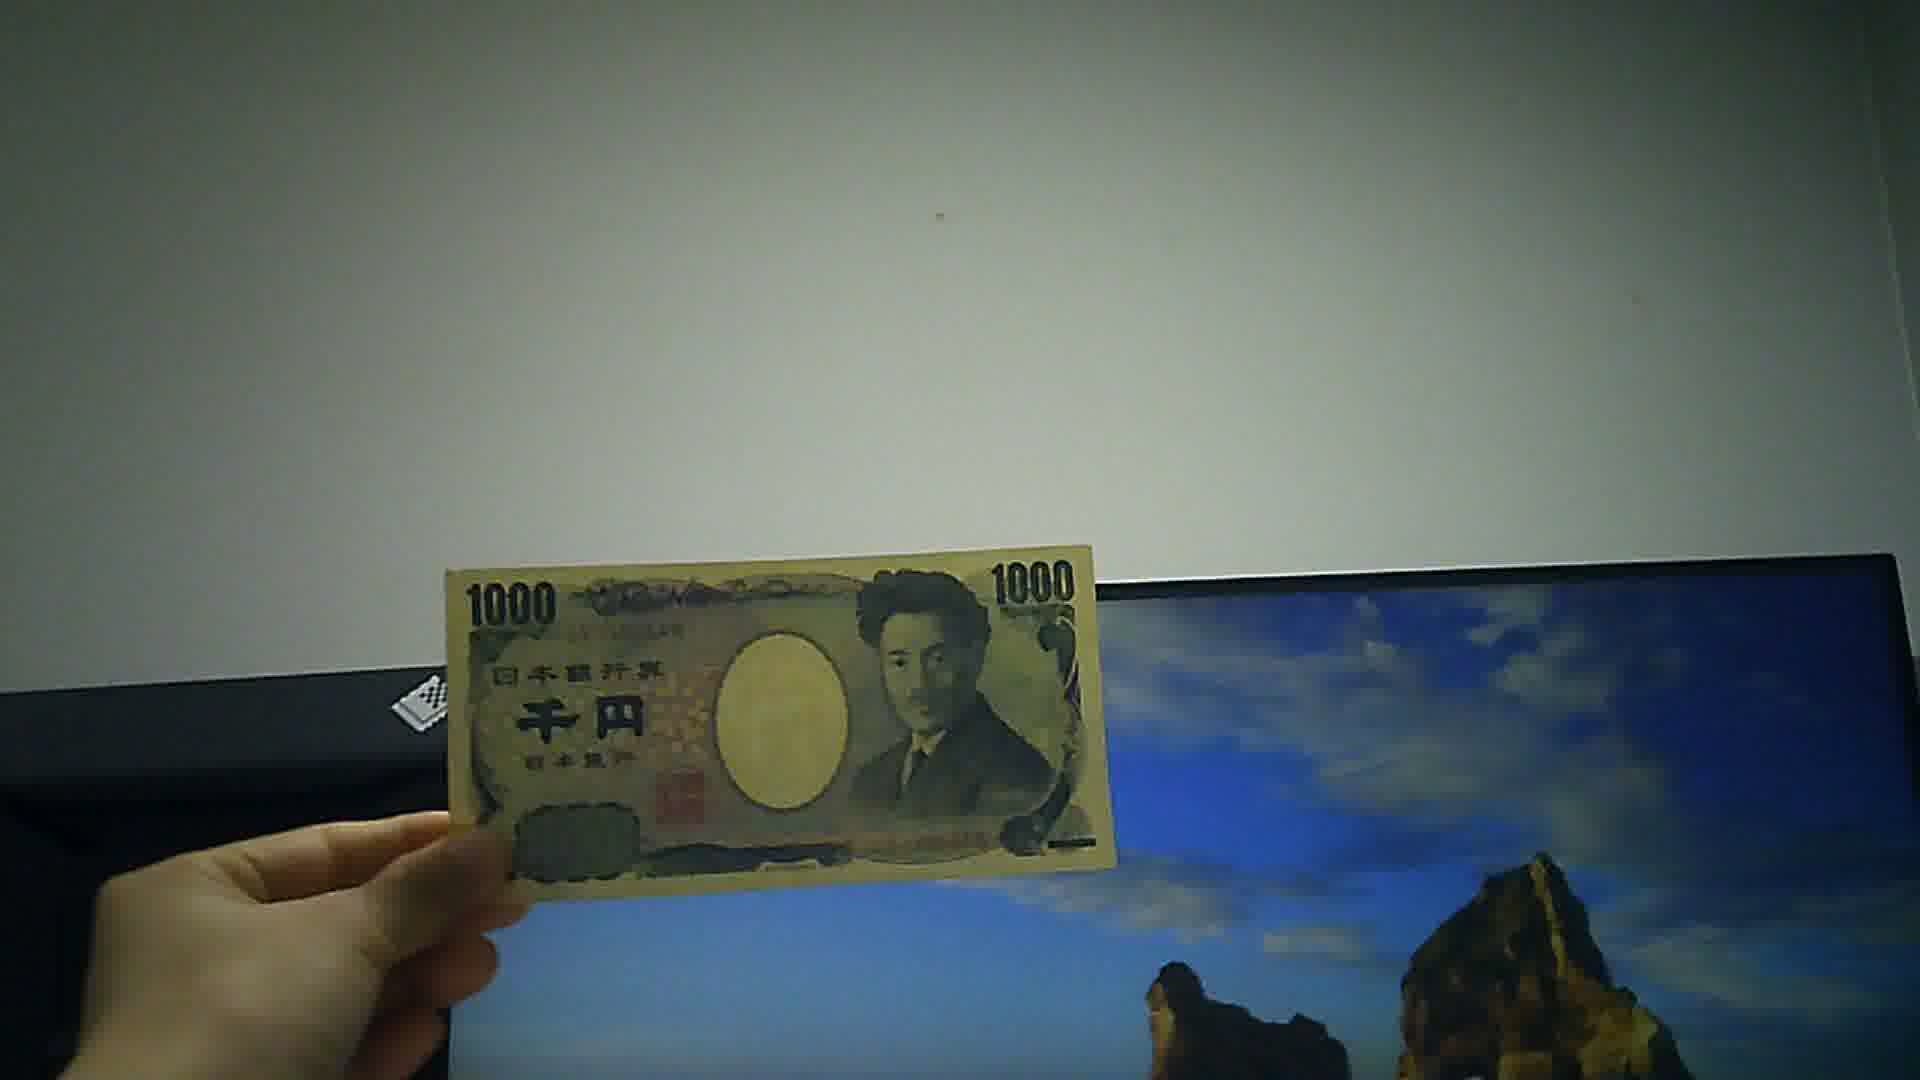1,000 Yen: (429, 538, 1131, 891)
